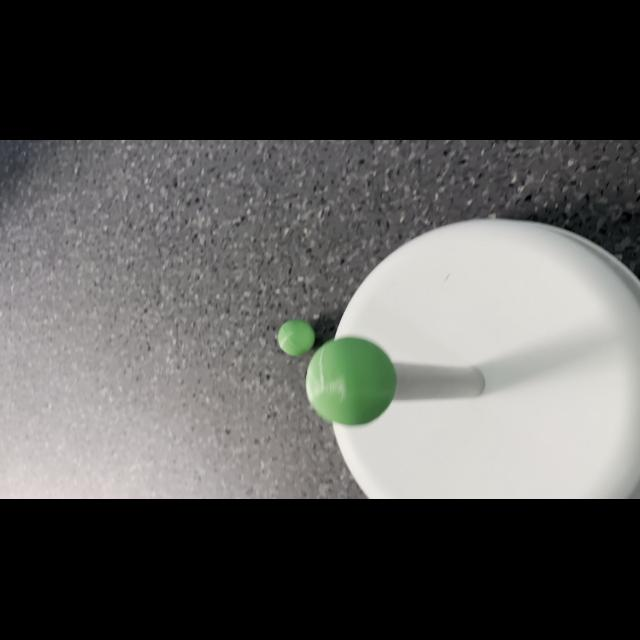objects: (301, 334, 395, 430), (275, 316, 315, 356)
